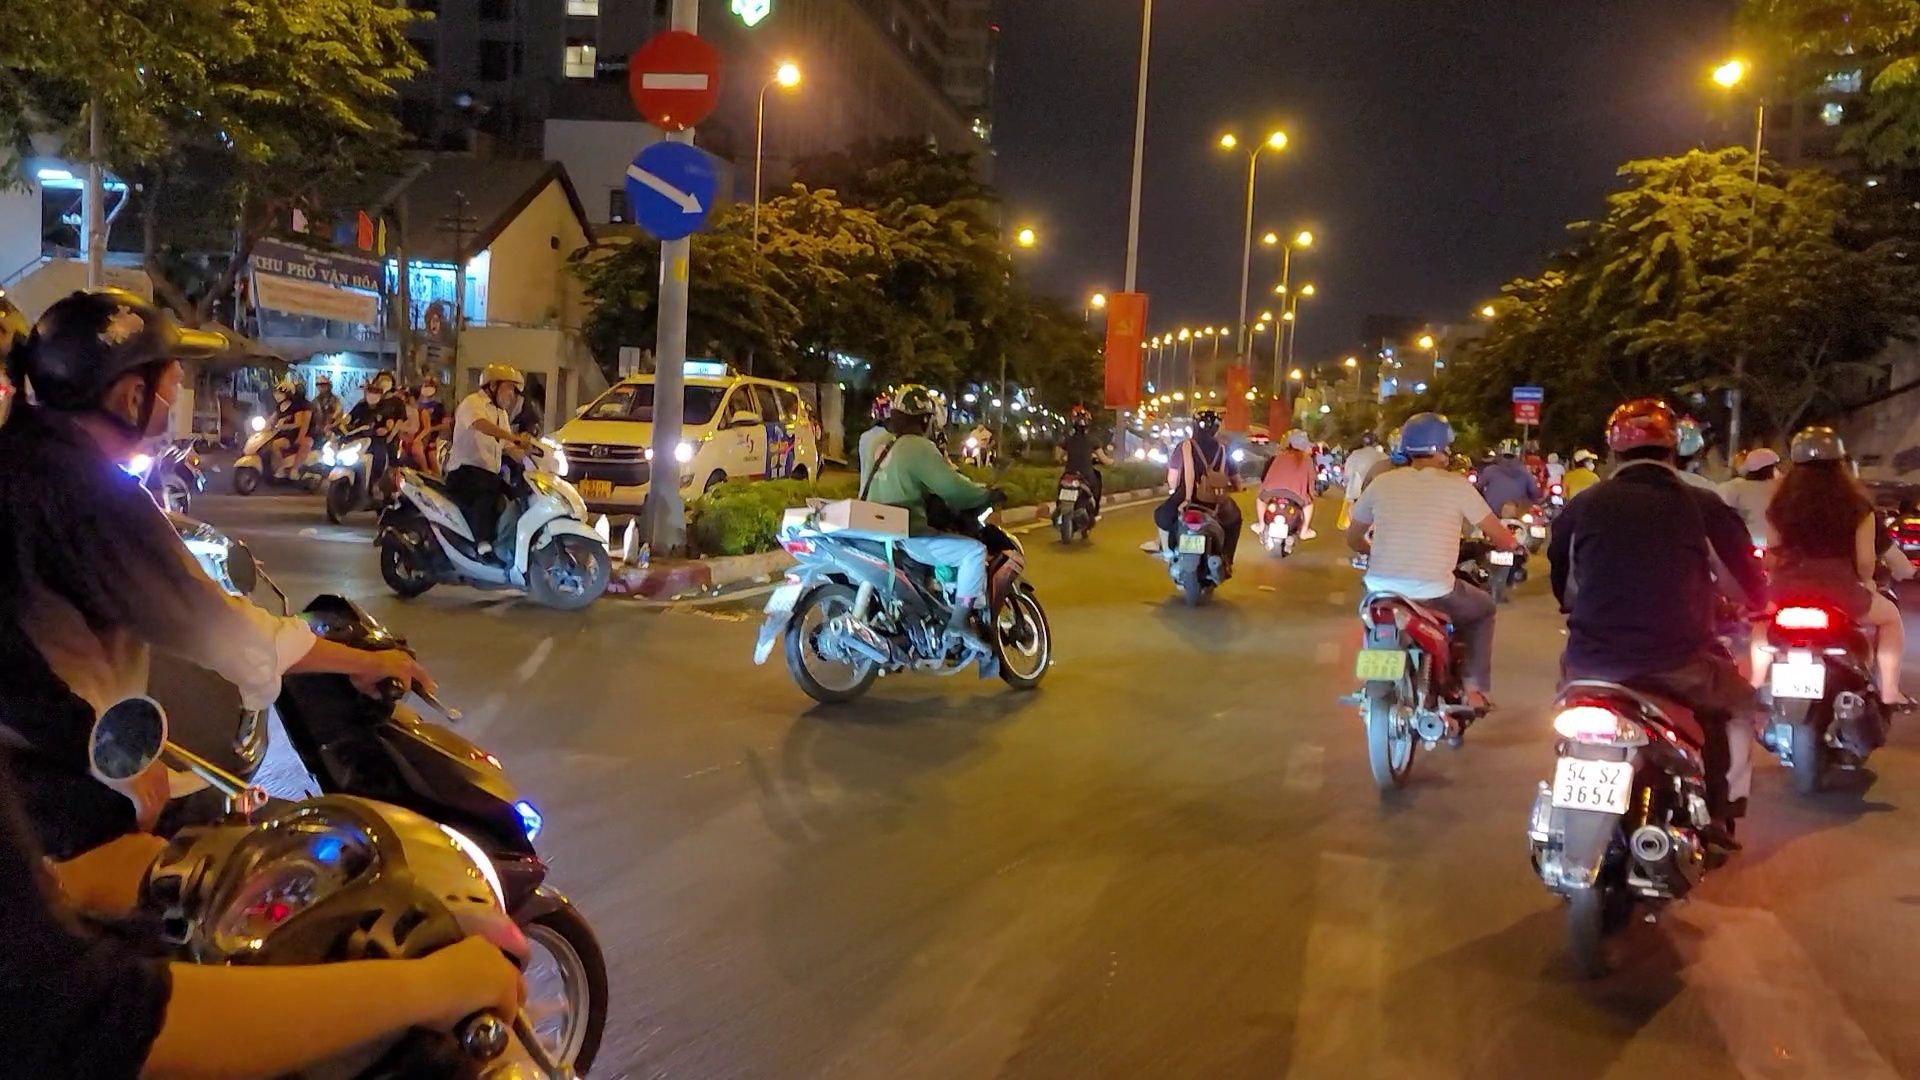Cam di nguoc chieu: (628, 32, 720, 127)
Huong di phai re phai: (624, 138, 715, 241)
